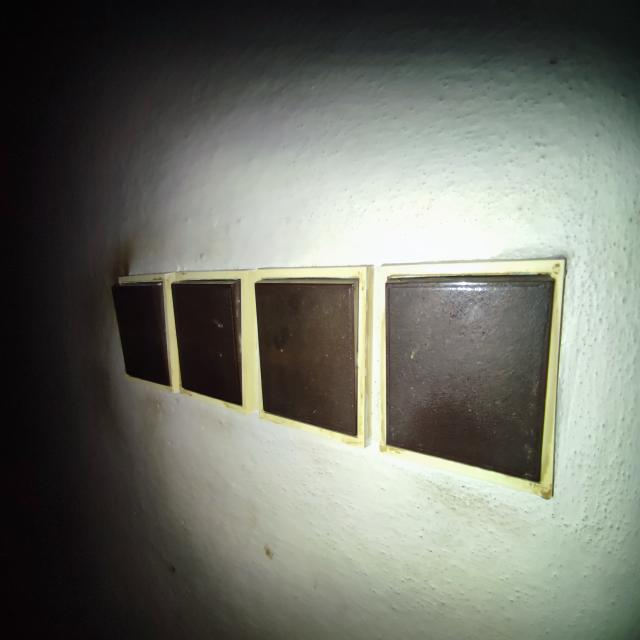house switch: (377, 257, 565, 498), (254, 265, 373, 448), (171, 269, 257, 414), (111, 272, 180, 393)
